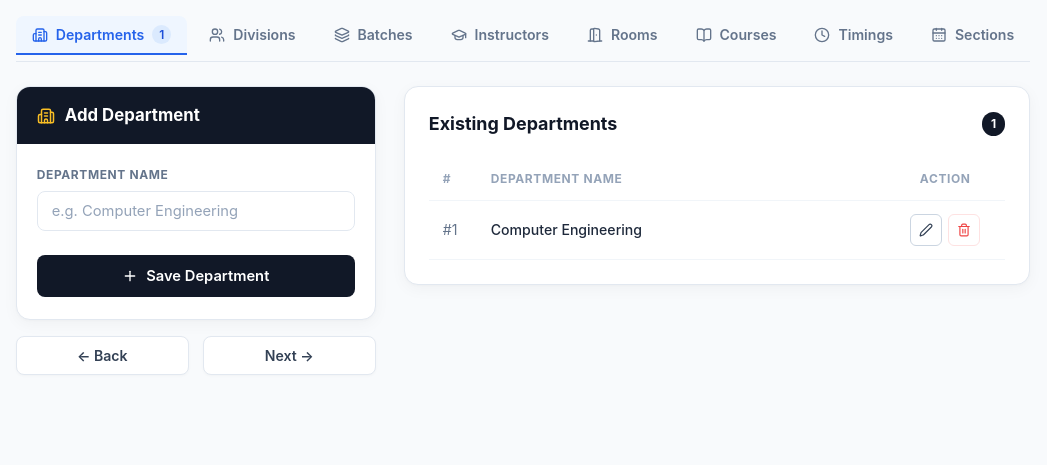
Test: DataEntry Component Tests - Layout & Edit Operations › 6. Submits new department and displays success feedback
The image size is (1047, 465).
Expected: the text "Computer Engineering" is shown, x1=477 y1=200 x2=885 y2=259
Type "Civil Engineering" into the field with placeholder "e.g. Computer Engineering" at (196, 211), box x1=37 y1=191 x2=355 y2=231
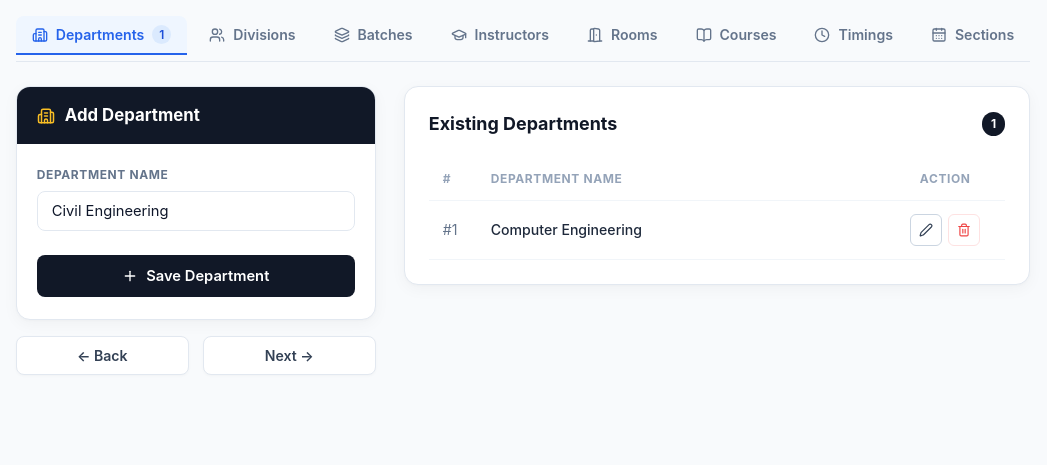
Click the button "Save Department" at (196, 276), box x1=37 y1=255 x2=355 y2=297
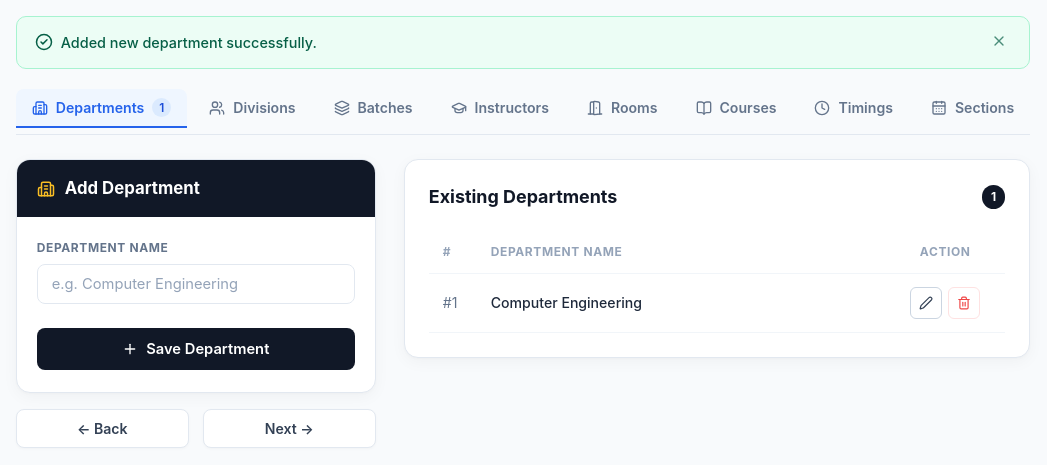
Expected: the text "Added new department successfully." is shown, x1=61 y1=32 x2=317 y2=53
